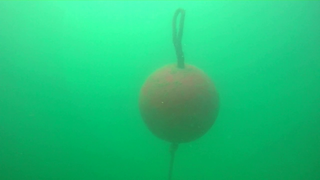buoy: (138, 63, 220, 143)
